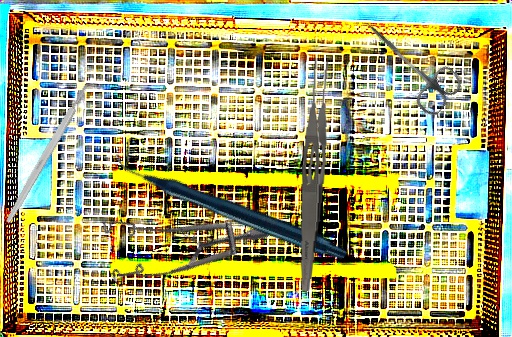Dressing Forceps: (295, 57, 334, 292)
Handpiece: (114, 78, 349, 332)
Iris Scissors: (348, 6, 467, 120)
Scalpel Handle: (3, 81, 92, 226)
Speculum: (83, 147, 271, 324)
